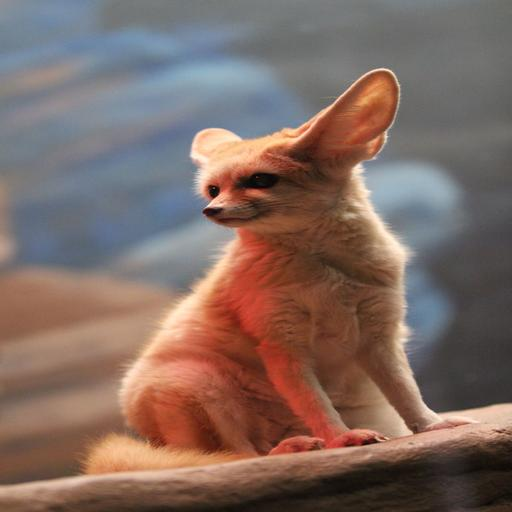Fox: (82, 68, 478, 485)
